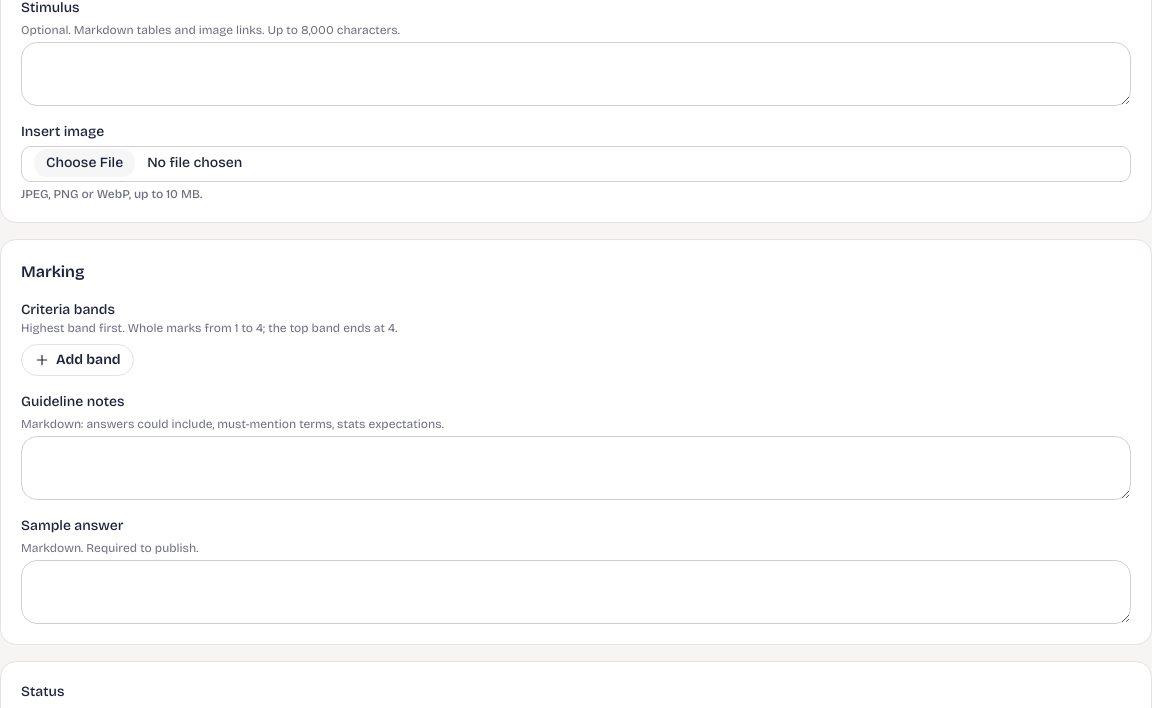
Test: shows band validation after editing criteria and clears it when corrected
(page scrolled)
Click the button "Add band" at (77, 360), box [21,344,134,376]
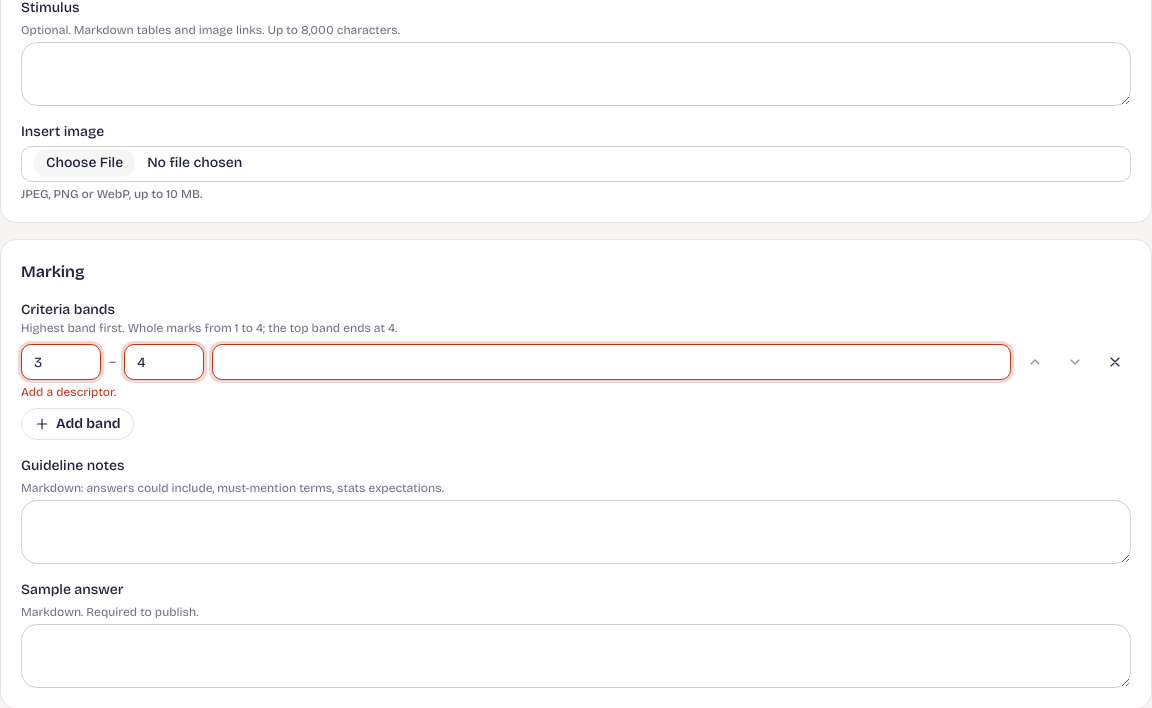
Replace the text in the number field named "Band 1 min" with "1" at (61, 362), box [21,344,101,380]
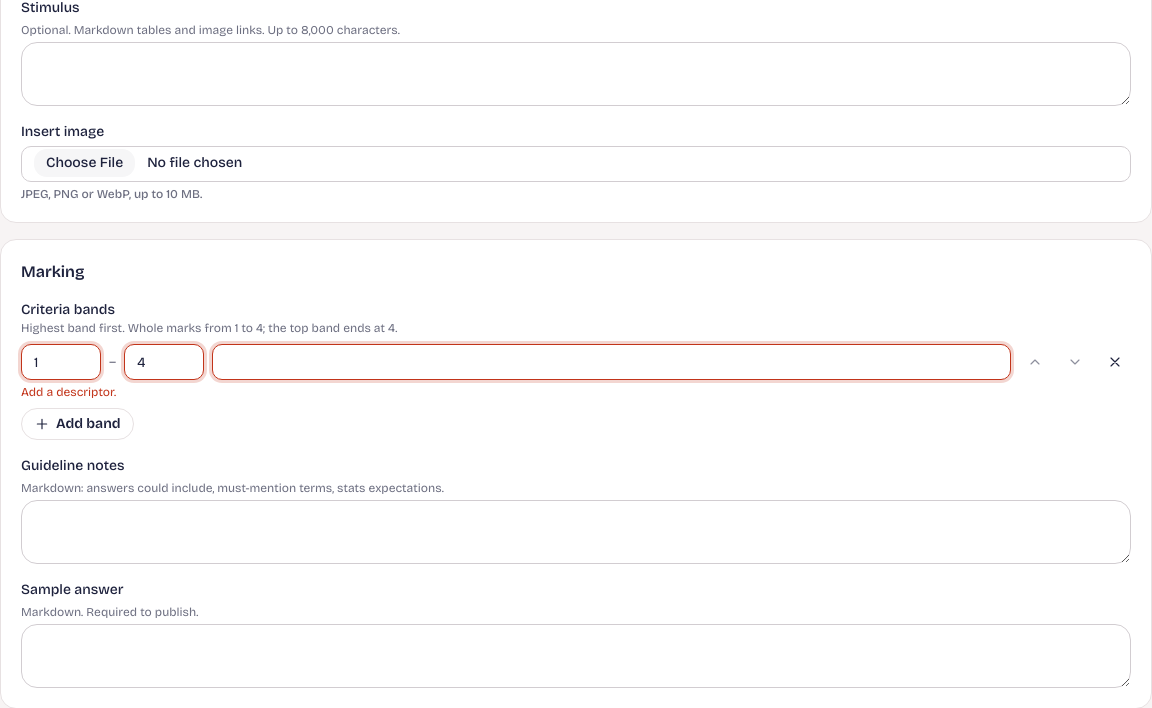
Type "Explains inflation" into the field named "Band 1 descriptor" at (612, 362), box [212,344,1011,380]
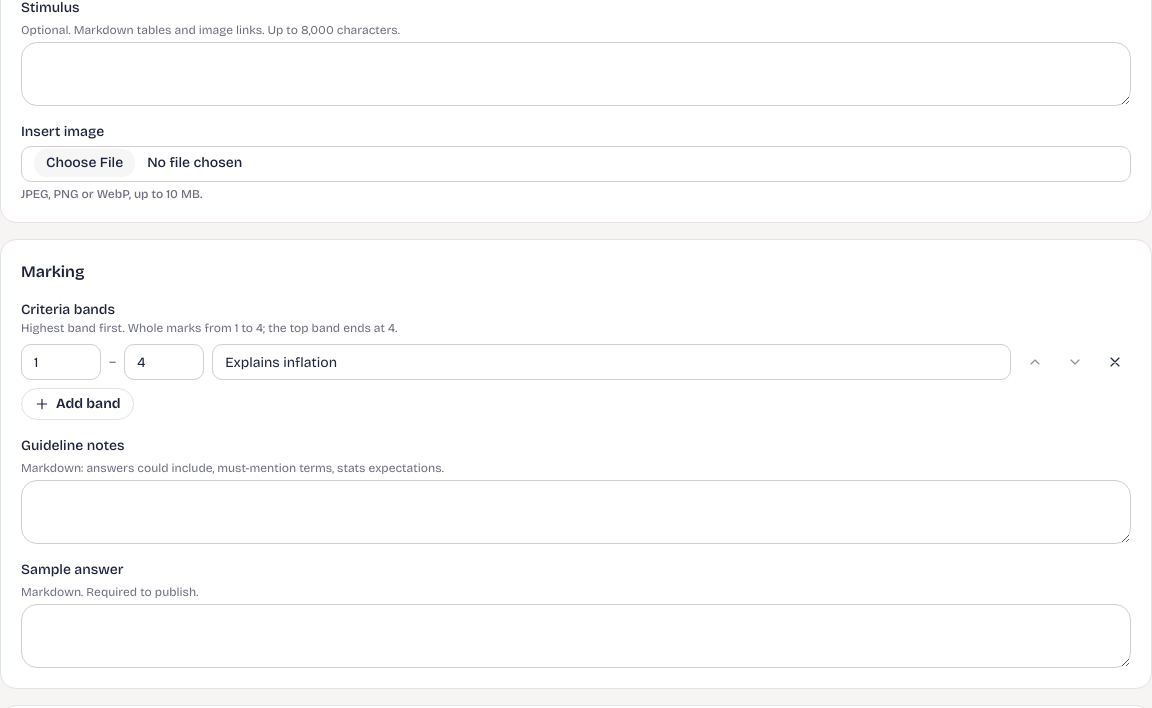
Now the field named "Band 1 descriptor" is not marked as invalid, box [212,344,1011,380]
Click the button named "Remove band 1" at (1115, 362), box [1099,346,1131,378]
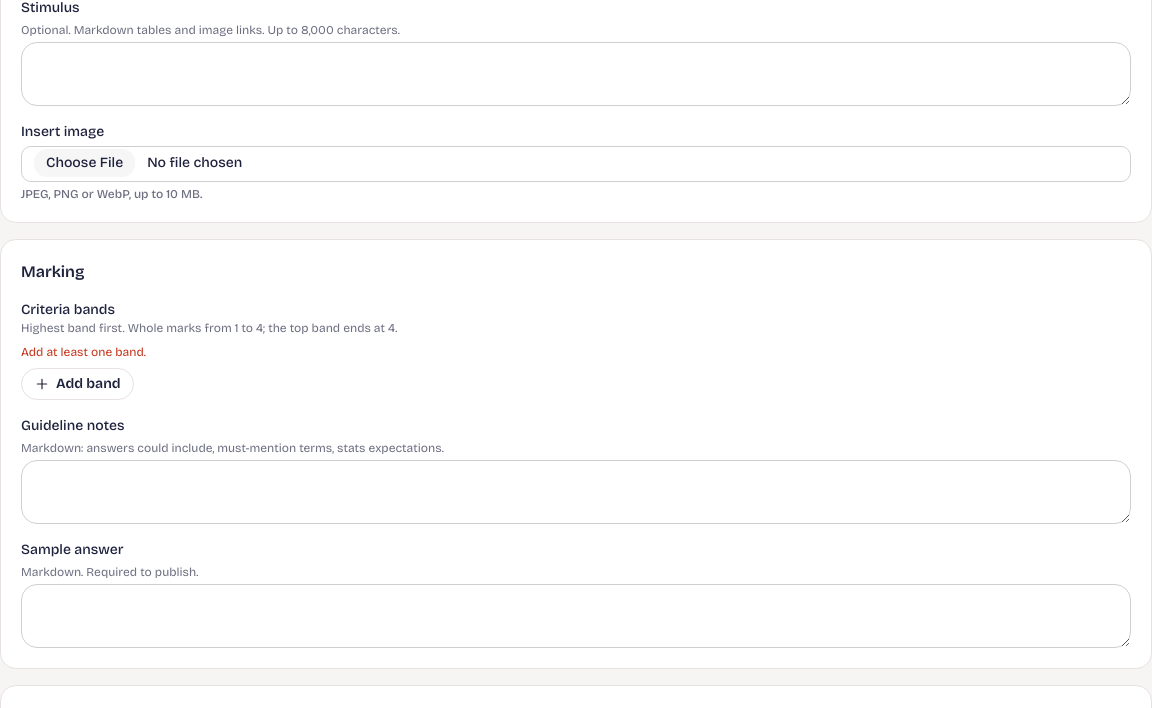
Now the text "Add at least one band." is shown, box [21,345,146,359]
